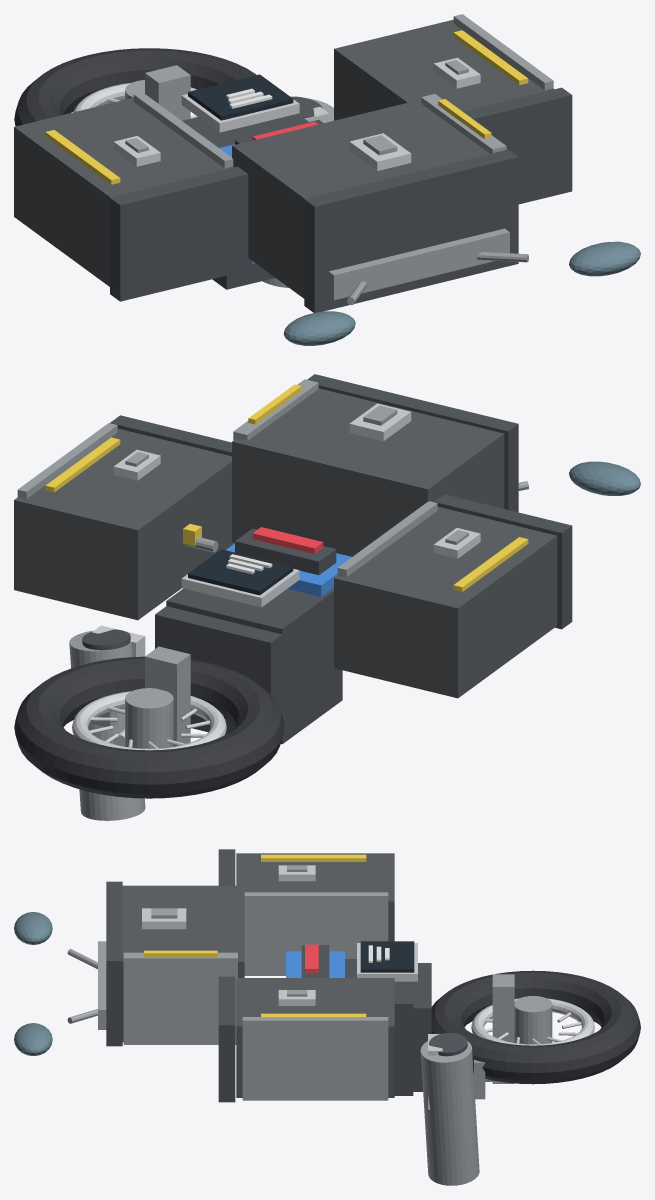
The model's file is VOGE_MODELO_3D.glb.
3 views of the same model, one above another, from view 1: azimuth 30°, elevation 25°; view 2: azimuth 150°, elevation 25°; view 3: azimuth 270°, elevation 25° (orthographic). The views are drawn at different scales.
Parts seen in each view (by area): view 1: Top_Case_Lid, Left_Pannier_Main, Top_Case_Main, Left_Pannier_Lid, Right_Pannier_Main, Rear_Tire, Right_Pannier_Lid, Rear_Rack, License_Plate, Rear_Subframe, R_Mirror, L_Mirror (+12 smaller); view 2: Left_Pannier_Main, Top_Case_Main, Right_Pannier_Main, Rear_Tire, Rear_Subframe, Rear_Fender, Top_Case_Lid, Left_Pannier_Lid, Exhaust_Can, Rear_Hub, Swingarm, Rear_Rim (+16 smaller); view 3: Rear_Tire, Right_Pannier_Rail, Left_Pannier_Rail, Top_Case_Corner, Top_Case_Main, Exhaust_Can, Right_Pannier_Main, Left_Pannier_Main, Top_Case_Lid, Rear_Subframe, Right_Pannier_Lid, Rear_Fender (+17 smaller).
Part boxes in pixels (x1,y1,x2,y2): Top_Case_Lid: (304,149,518,312); Left_Pannier_Main: (14,97,234,286); Top_Case_Main: (232,99,489,298); Left_Pannier_Lid: (110,166,252,301); Right_Pannier_Main: (334,19,554,120); Rear_Tire: (14,48,256,126); Right_Pannier_Lid: (463,87,572,204); Rear_Rack: (328,228,509,300); License_Plate: (188,74,293,120); Rear_Subframe: (188,113,308,289); R_Mirror: (569,241,640,276); L_Mirror: (284,311,355,345); Left_Pannier_Main: (334,506,557,698); Top_Case_Main: (232,388,504,556); Right_Pannier_Main: (14,428,234,620); Rear_Tire: (14,656,284,798); Rear_Subframe: (166,588,342,744); Rear_Fender: (155,606,282,734); Top_Case_Lid: (307,374,518,512); Left_Pannier_Lid: (434,494,572,629); Exhaust_Can: (69,630,145,820); Rear_Hub: (125,688,173,748); Swingarm: (145,646,190,746); Rear_Rim: (72,691,226,750); Rear_Tire: (431,970,640,1084); Right_Pannier_Rail: (242,1017,388,1100); Left_Pannier_Rail: (244,892,388,975); Top_Case_Corner: (123,952,237,1044); Top_Case_Main: (122,885,244,1042); Exhaust_Can: (420,1041,479,1185); Right_Pannier_Main: (236,978,394,1097); Left_Pannier_Main: (236,853,394,941); Top_Case_Lid: (106,881,122,1046); Rear_Subframe: (345,959,413,1095); Right_Pannier_Lid: (218,976,235,1102); Rear_Fender: (413,963,431,1091).
Size of the model in its own units: 2.26 by 1.38 by 3.4.
